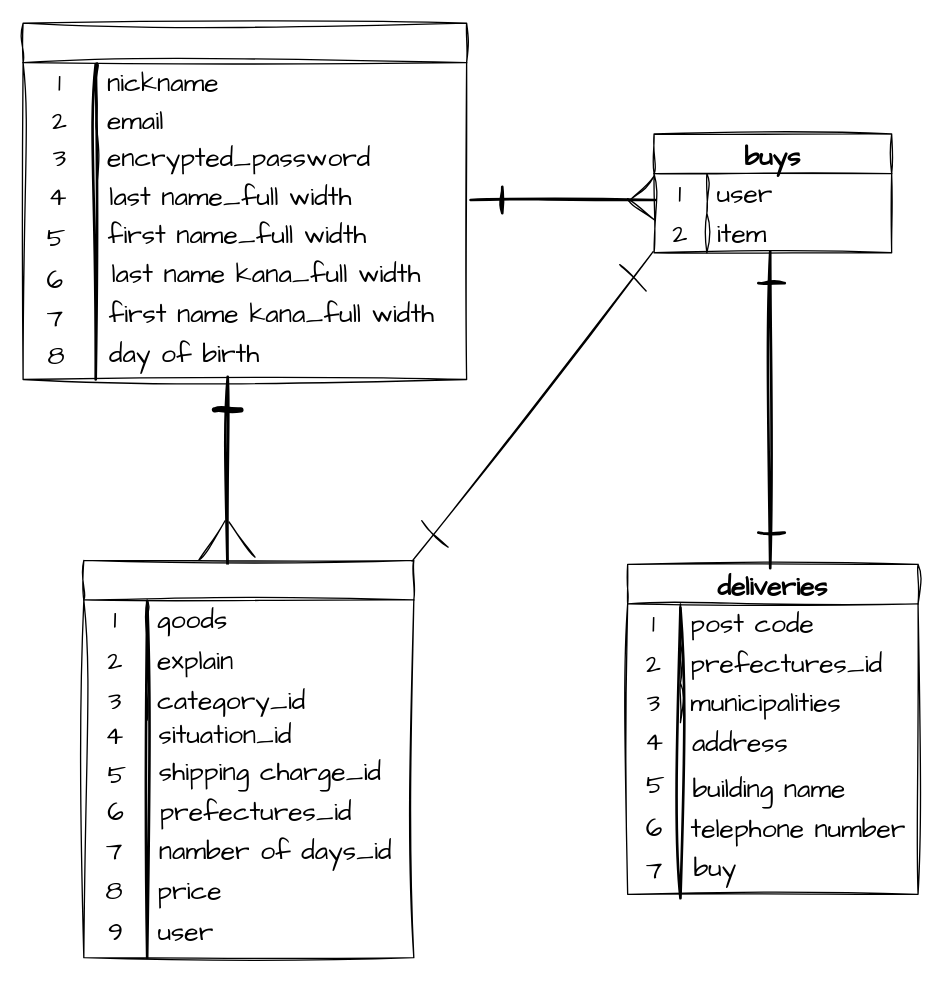
Image size: 946x982. Some labels were removed from this diagram. The box of each missing label's shape, as (x1, y1, x2, y2) in pixels:
items: (82, 559, 414, 958)
users: (22, 22, 467, 380)
